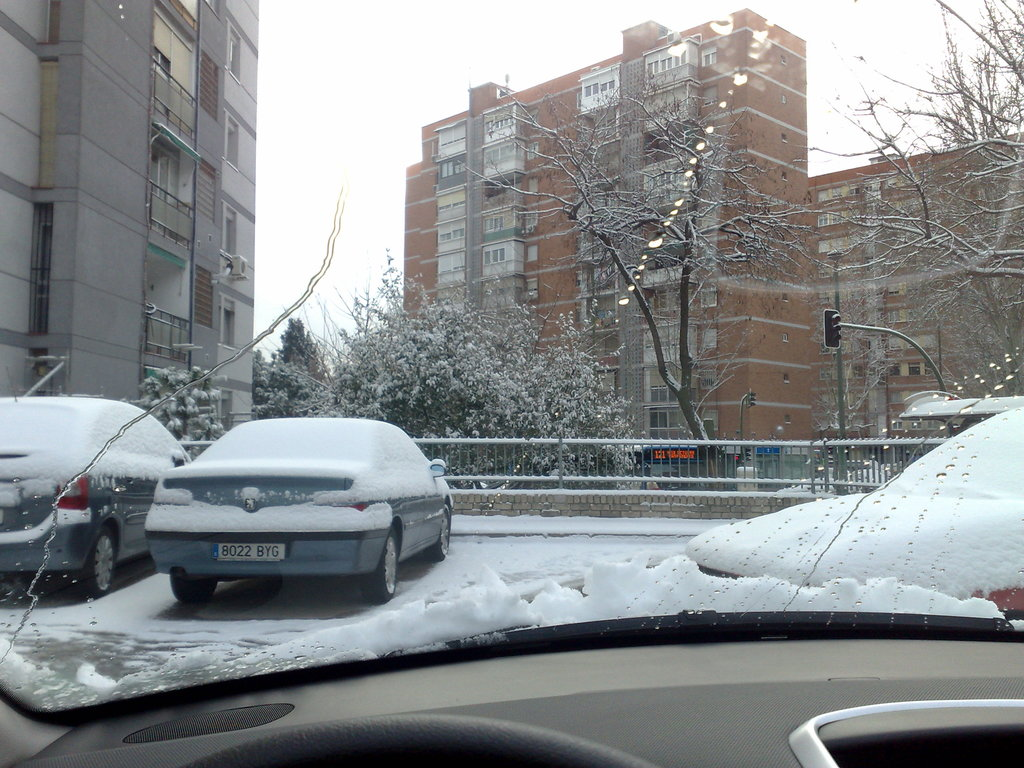Tree: (549, 72, 768, 463), (264, 250, 624, 475), (816, 0, 1023, 340), (917, 247, 1018, 459), (837, 245, 893, 419), (142, 369, 206, 487), (266, 323, 344, 397)
